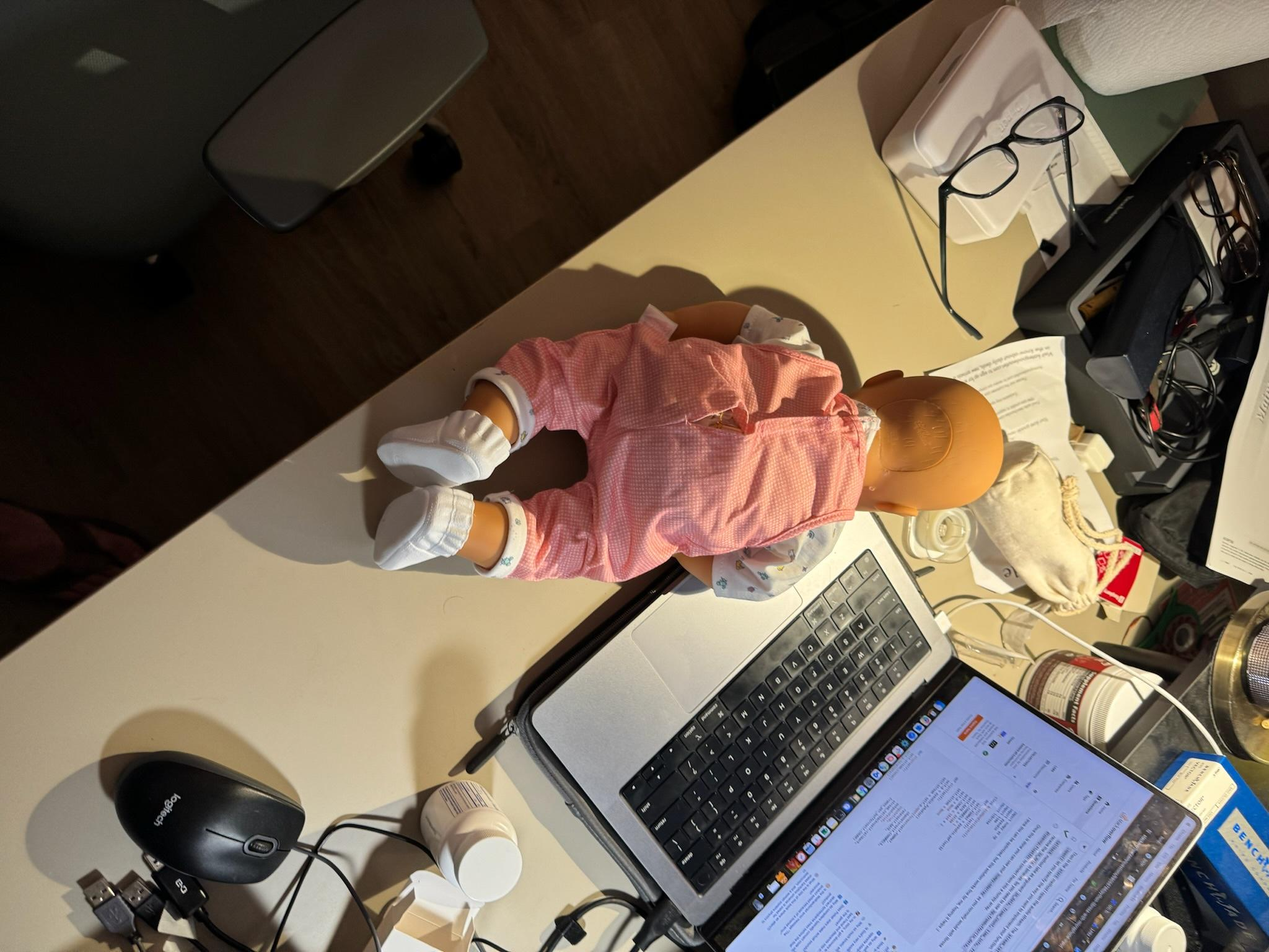baby: (345, 279, 1016, 621)
